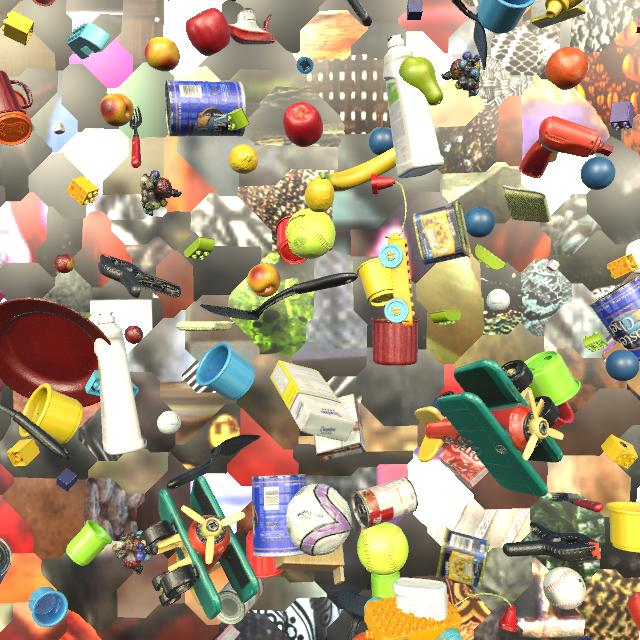ycb_002_master_chef_can: (165, 80, 246, 137), (251, 474, 306, 557), (590, 275, 640, 361), (0, 538, 12, 584)
ycb_004_sugar_box: (270, 360, 356, 441), (530, 0, 586, 29), (168, 0, 169, 1)
ycb_005_tomato_soup_can: (351, 476, 418, 529), (217, 578, 264, 625)
ycb_006_mustard_bottle: (545, 0, 583, 19)
ycb_008_pudding_box: (314, 393, 366, 462)
ycb_009_gelatin_box: (438, 445, 490, 489), (215, 624, 240, 640)
ycb_010_potted_meat_can: (413, 201, 471, 265), (436, 527, 490, 588)
ycb_011_banana: (319, 147, 396, 192)
ycb_013_apple: (185, 8, 230, 56), (283, 102, 323, 147)
ycb_014_lemon: (305, 177, 334, 212), (228, 144, 258, 174)
ycb_015_peach: (145, 37, 180, 71), (100, 93, 134, 127), (247, 264, 281, 297)
ycb_016_pear: (399, 56, 443, 106)
ycb_017_orange: (545, 47, 588, 90), (352, 632, 373, 640)
